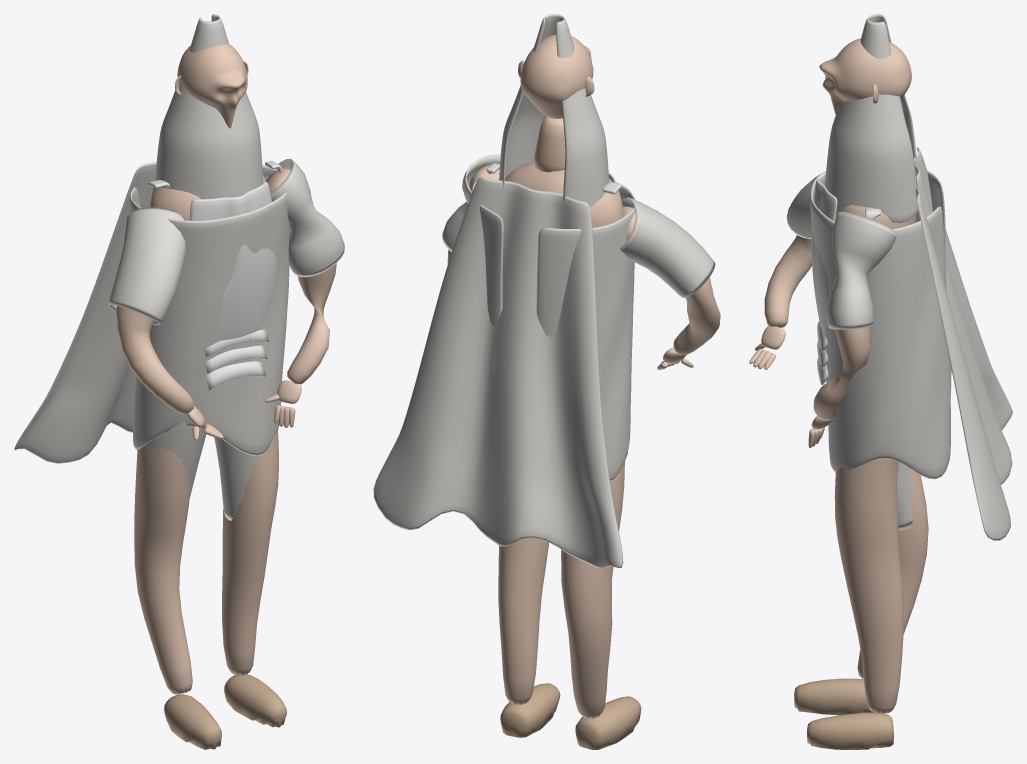
File: foundry_skirmisher.glb
3 views of the same model, side by side, from view 1: azimuth 30°, elevation 25°; view 2: azimuth 150°, elevation 25°; view 3: azimuth 270°, elevation 25° (orthographic). The views are drawn at different scales.
Parts seen in each view (by area): view 1: Robe, Cape, LegR, Hood, LegL, SleeveR, Plate, SleeveL, Head, ArmR, ArmL, BootL (+7 smaller); view 2: Cape, Robe, Hood, LegR, LegL, SleeveR, Head, BootR, ArmR, Body, BootL, Neck (+1 smaller); view 3: Robe, LegL, Cape, Hood, SleeveL, Head, LegR, BootL, ArmR, BootR, ArmL, Plate (+4 smaller).
Boxes of the visible parts, x1=… form: Robe: x1=129, y1=165, x2=289, y2=456; Cape: x1=14, y1=162, x2=156, y2=463; LegR: x1=134, y1=446, x2=192, y2=694; Hood: x1=155, y1=14, x2=263, y2=199; LegL: x1=222, y1=431, x2=278, y2=675; SleeveR: x1=108, y1=207, x2=186, y2=325; Plate: x1=190, y1=182, x2=276, y2=340; SleeveL: x1=264, y1=158, x2=344, y2=277; Head: x1=177, y1=44, x2=247, y2=128; ArmR: x1=116, y1=306, x2=194, y2=414; ArmL: x1=265, y1=168, x2=336, y2=384; BootL: x1=224, y1=674, x2=286, y2=727; Cape: x1=373, y1=177, x2=623, y2=568; Robe: x1=471, y1=181, x2=635, y2=481; Hood: x1=499, y1=14, x2=609, y2=207; LegR: x1=561, y1=462, x2=624, y2=719; LegL: x1=498, y1=538, x2=548, y2=704; SleeveR: x1=619, y1=196, x2=715, y2=297; Head: x1=520, y1=35, x2=593, y2=118; BootR: x1=575, y1=696, x2=641, y2=749; ArmR: x1=621, y1=206, x2=720, y2=355; Body: x1=505, y1=161, x2=622, y2=227; BootL: x1=500, y1=683, x2=560, y2=737; Neck: x1=534, y1=116, x2=565, y2=172; Robe: x1=810, y1=170, x2=951, y2=479; LegL: x1=834, y1=458, x2=903, y2=713; Cape: x1=914, y1=147, x2=1012, y2=540; Hood: x1=825, y1=14, x2=918, y2=223; SleeveL: x1=826, y1=211, x2=896, y2=329; Head: x1=819, y1=38, x2=911, y2=115; LegR: x1=857, y1=469, x2=928, y2=678; BootL: x1=807, y1=712, x2=893, y2=749; ArmR: x1=764, y1=235, x2=811, y2=327; BootR: x1=794, y1=678, x2=872, y2=715; ArmL: x1=813, y1=327, x2=871, y2=420; Plate: x1=811, y1=170, x2=837, y2=334.
Size of the model in its own units: 0.7175 by 1.88 by 0.6367.
